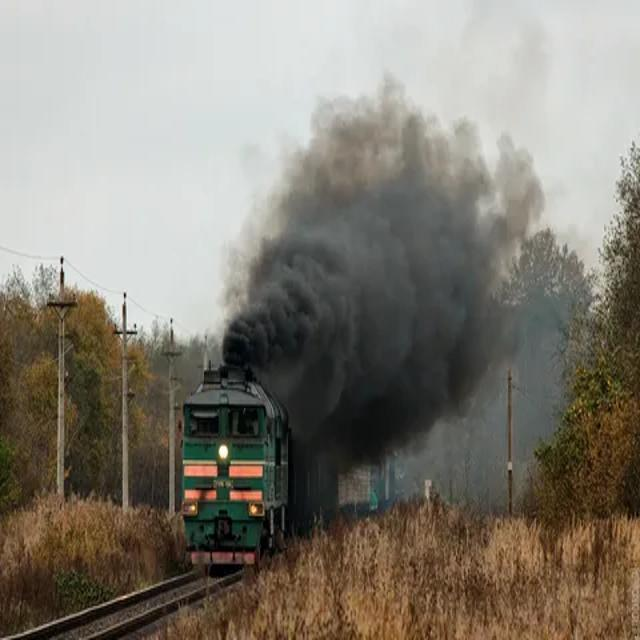Smoke: (224, 77, 526, 459)
